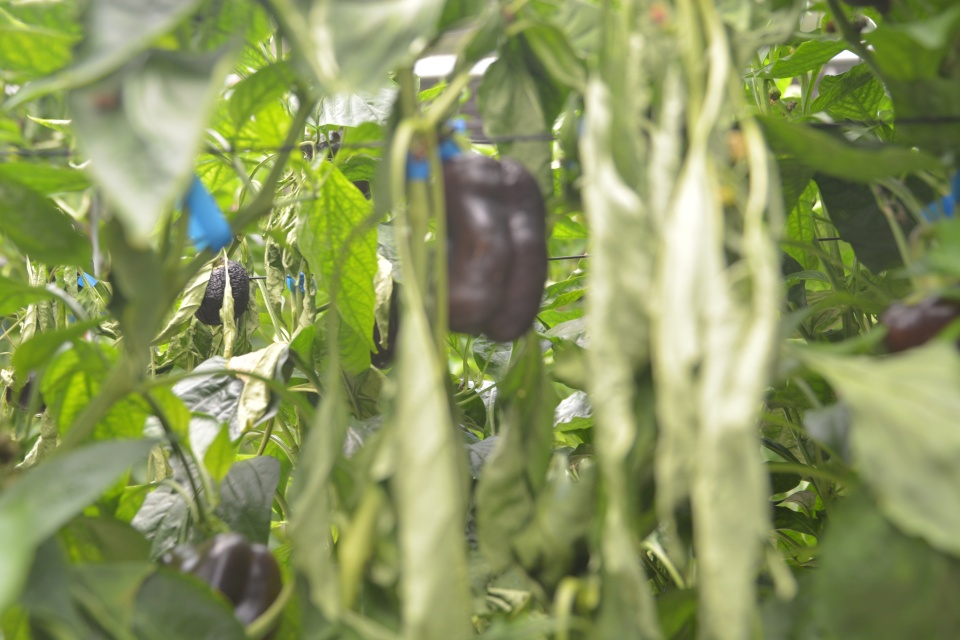fruit: (422, 146, 549, 346), (153, 529, 283, 640), (876, 292, 960, 359), (304, 128, 372, 202), (192, 260, 252, 327), (369, 279, 406, 371), (4, 368, 45, 415)
